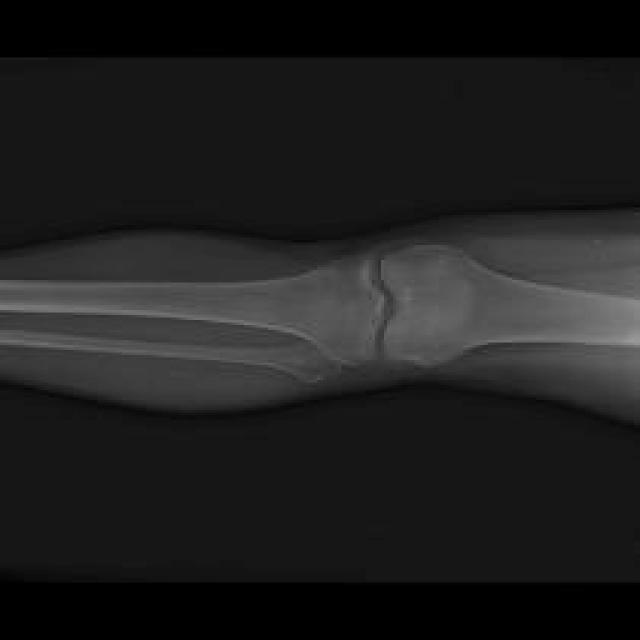normal: (0, 250, 383, 361), (380, 247, 638, 368), (2, 332, 341, 380)
